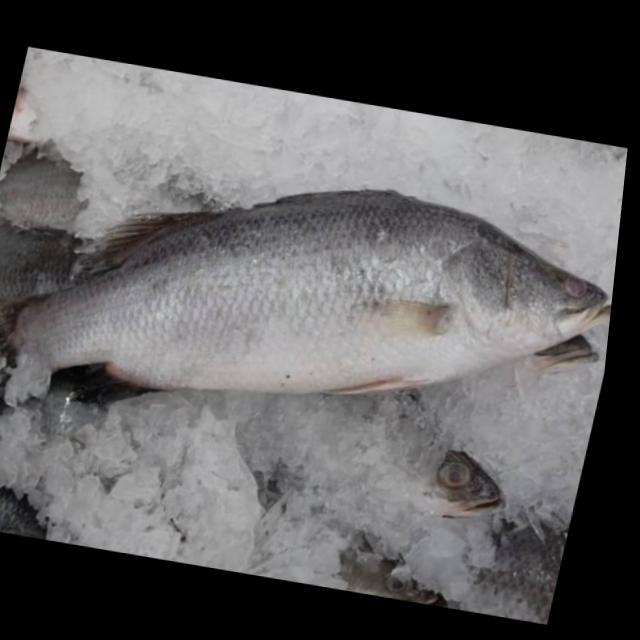Seabass: (0, 122, 627, 523)
